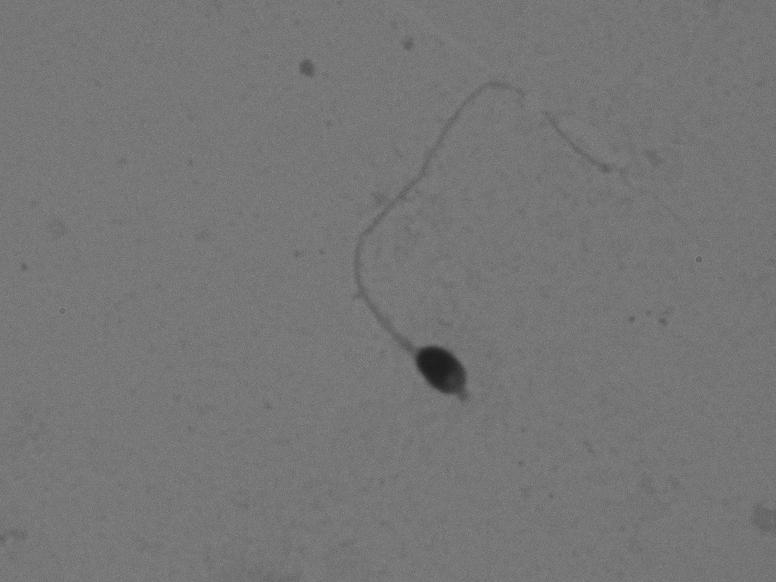Abnormal: (267, 52, 712, 466)
